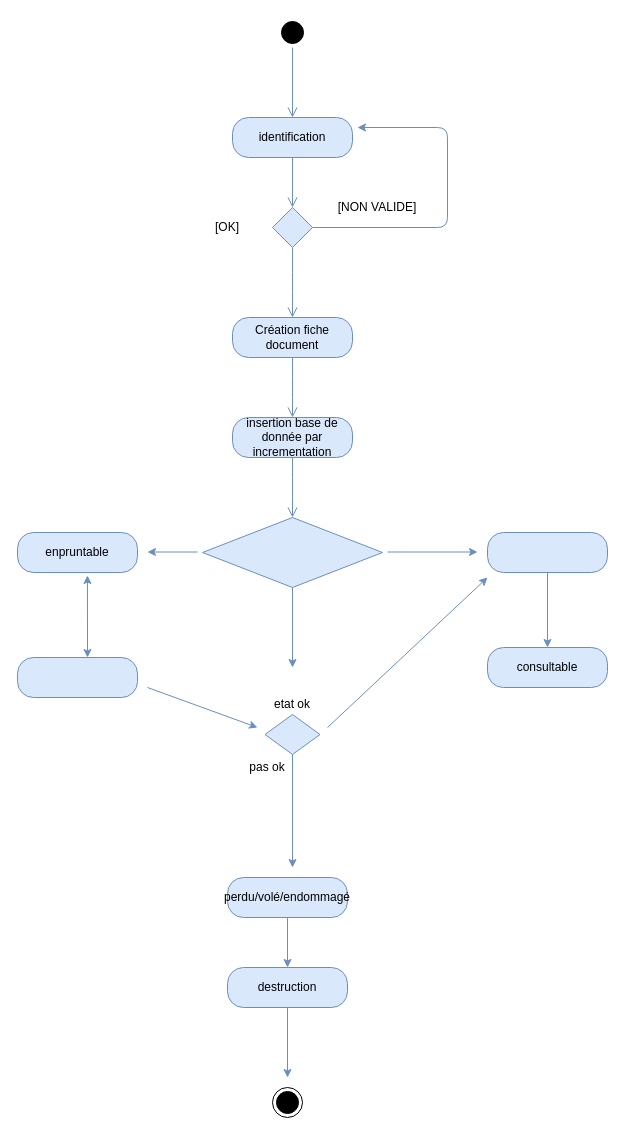
The diagram is 625 pixels wide and 1135 high, and some of its shapes have lost their labels. Each missing label, with the centre of its shape:
"classification document" belongs at [292,552].
"emprunté" belongs at [77,677].
"rayonnage" belongs at [547,552].
